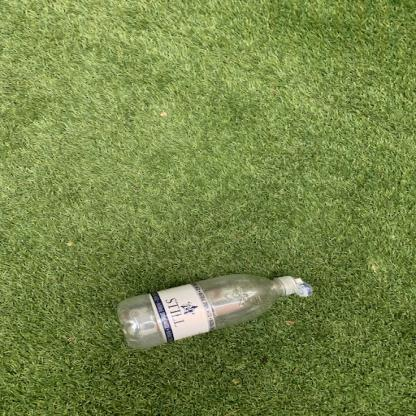trash: (113, 273, 313, 349)
